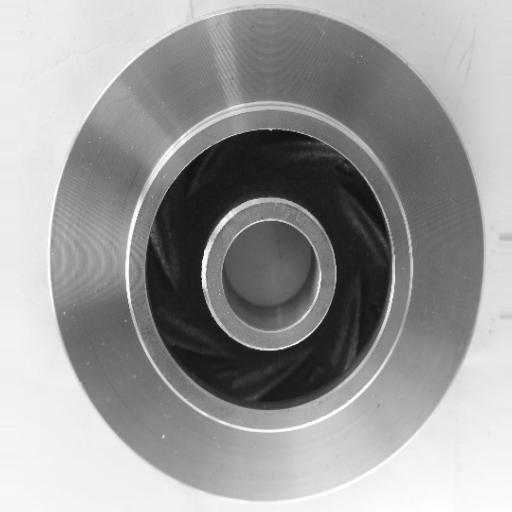unpolished_casting: (47, 8, 484, 501)
